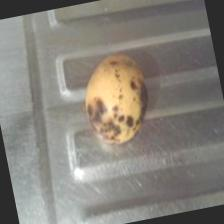Mango Overripe: (74, 43, 159, 154)
